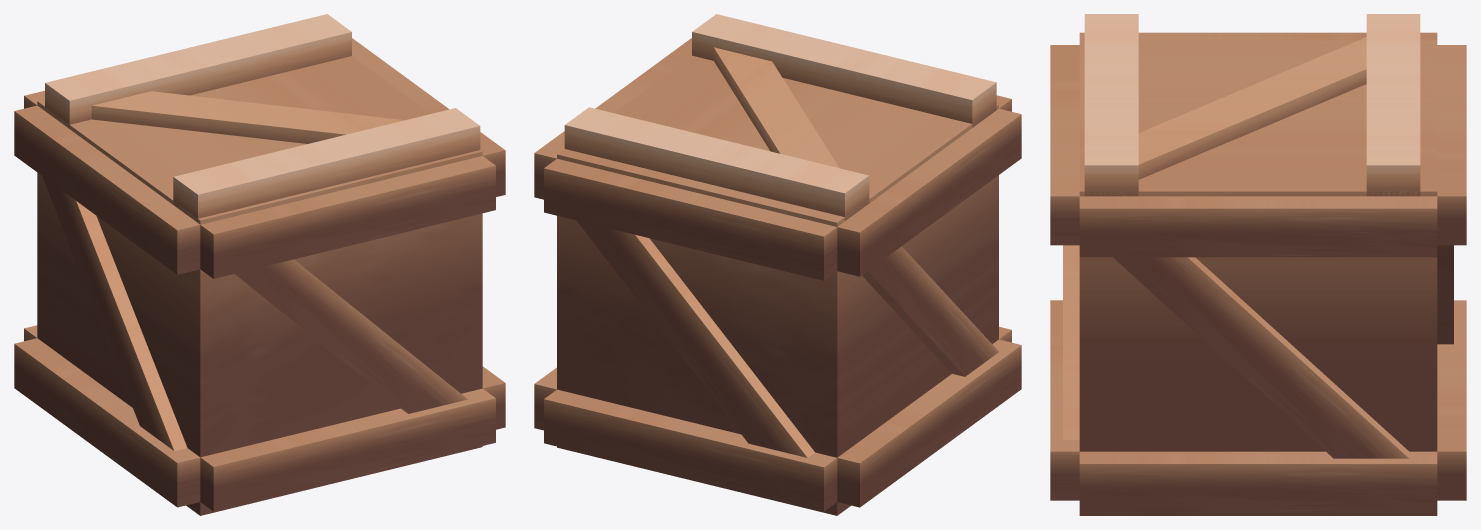
The model's file is Wooden_Box.fbx.
The picture shows the model from 3 angles, left to right: view 1: azimuth 30°, elevation 25°; view 2: azimuth 150°, elevation 25°; view 3: azimuth 270°, elevation 25°; orthographic projection. The views are drawn at different scales.
Visible parts, largest first — view 1: pCube68; view 2: pCube68; view 3: pCube68.
Part boxes in pixels (x1,y1,x2,y2): pCube68: [14, 14, 505, 515]; pCube68: [534, 14, 1021, 515]; pCube68: [1050, 14, 1466, 515].
Bounding box in the file's own units: 96.01 × 89.3 × 96.01.
